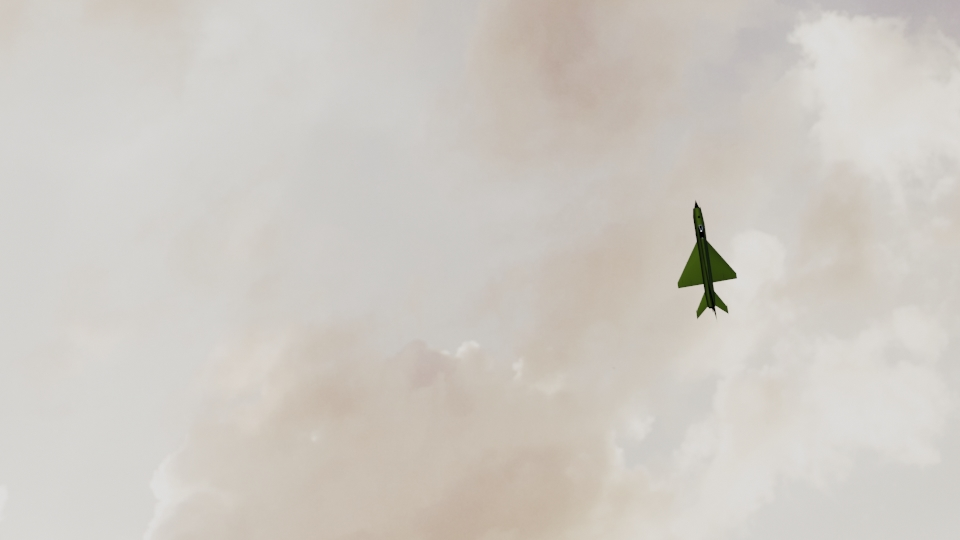plane: (678, 200, 738, 320)
